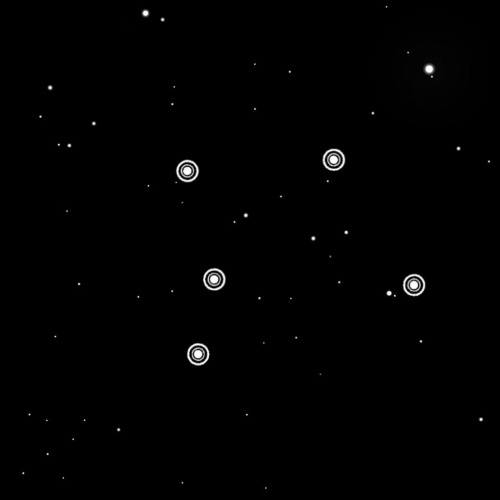libra: (167, 143, 429, 371)
